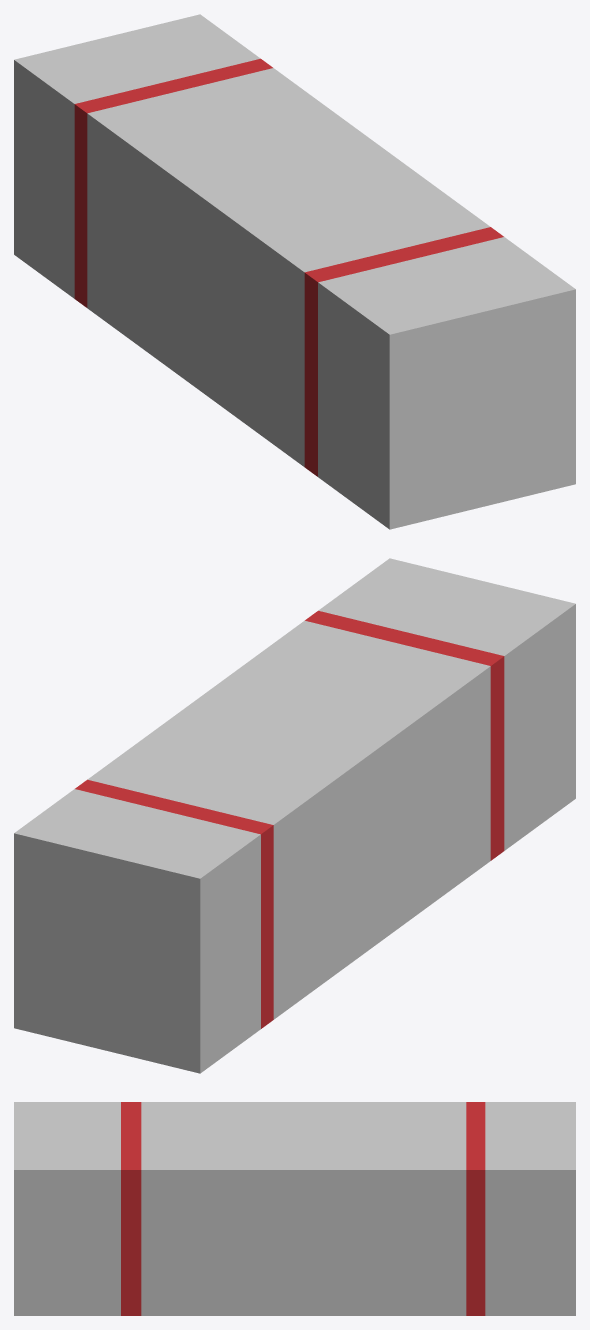
The model's file is redbox.fbx.
The picture shows the model from 3 angles, top to bottom: view 1: azimuth 30°, elevation 25°; view 2: azimuth 150°, elevation 25°; view 3: azimuth 270°, elevation 25°; orthographic projection. The views are drawn at different scales.
Visible parts, largest first — view 1: Cube; view 2: Cube; view 3: Cube.
Boxes of the visible parts, left/top/right/bottom form: Cube: left=14, top=14, right=575, bottom=529; Cube: left=14, top=558, right=575, bottom=1073; Cube: left=14, top=1102, right=575, bottom=1315.
Bounding box in the file's own units: 238 × 238 × 831.
